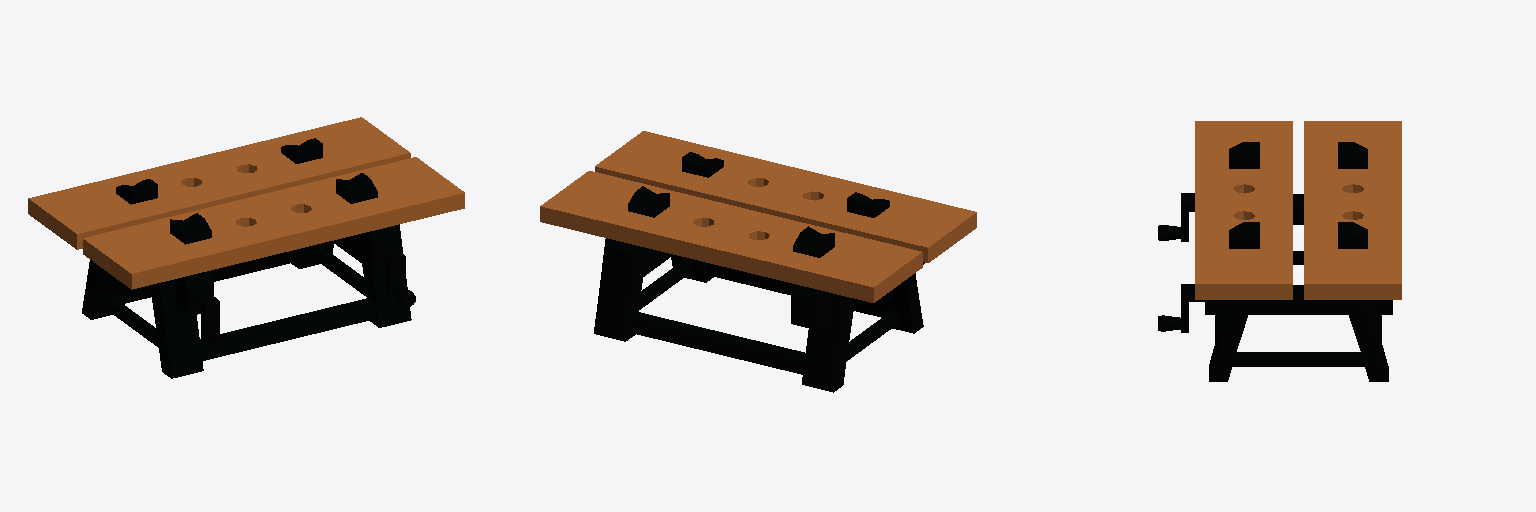
Rendered from workmate.obj.
The picture shows the model from 3 angles: view 1: azimuth 30°, elevation 25°; view 2: azimuth 150°, elevation 25°; view 3: azimuth 270°, elevation 25°; orthographic projection.
Parts seen in each view (by area): view 1: workmate_Cube.253; view 2: workmate_Cube.253; view 3: workmate_Cube.253.
Part boxes in pixels (left/top/right/bottom): workmate_Cube.253: left=28, top=117, right=464, bottom=378; workmate_Cube.253: left=540, top=131, right=976, bottom=392; workmate_Cube.253: left=1158, top=121, right=1401, bottom=381.
Size of the model in its own units: 1.59 by 0.6169 by 1.01.